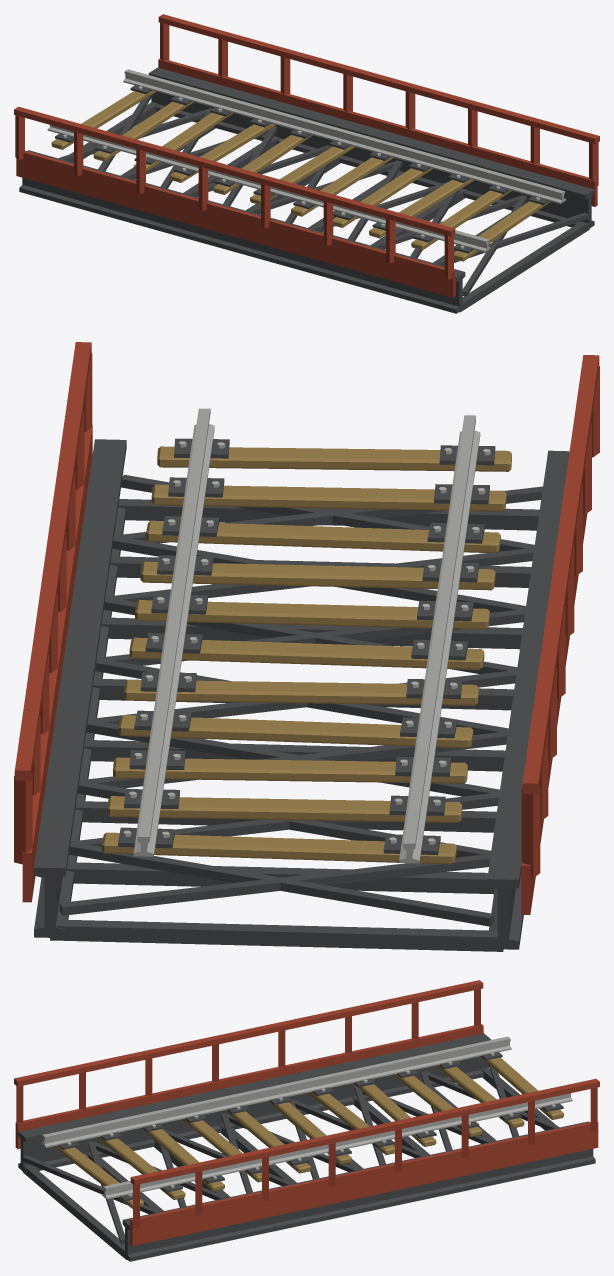
File: elevated-half-diagonal-rail.glb
3 views of the same model, one above another, from view 1: azimuth 30°, elevation 25°; view 2: azimuth 150°, elevation 25°; view 3: azimuth 270°, elevation 25° (orthographic). The views are drawn at different scales.
Visible parts, largest first — view 1: body; view 2: body; view 3: body.
Boxes of the visible parts, x1,y1,x2,y2 form: body: [14, 14, 599, 313]; body: [14, 342, 599, 951]; body: [14, 980, 599, 1261].
Bounding box in the file's own units: 4.07 × 0.825 × 5.03.
